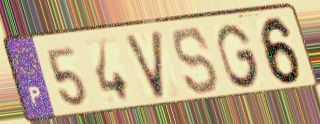4: (97, 37, 134, 105)
5: (43, 43, 91, 108)
6: (258, 14, 306, 87)
G: (215, 21, 263, 90)
S: (172, 25, 222, 98)
V: (121, 28, 167, 103)
